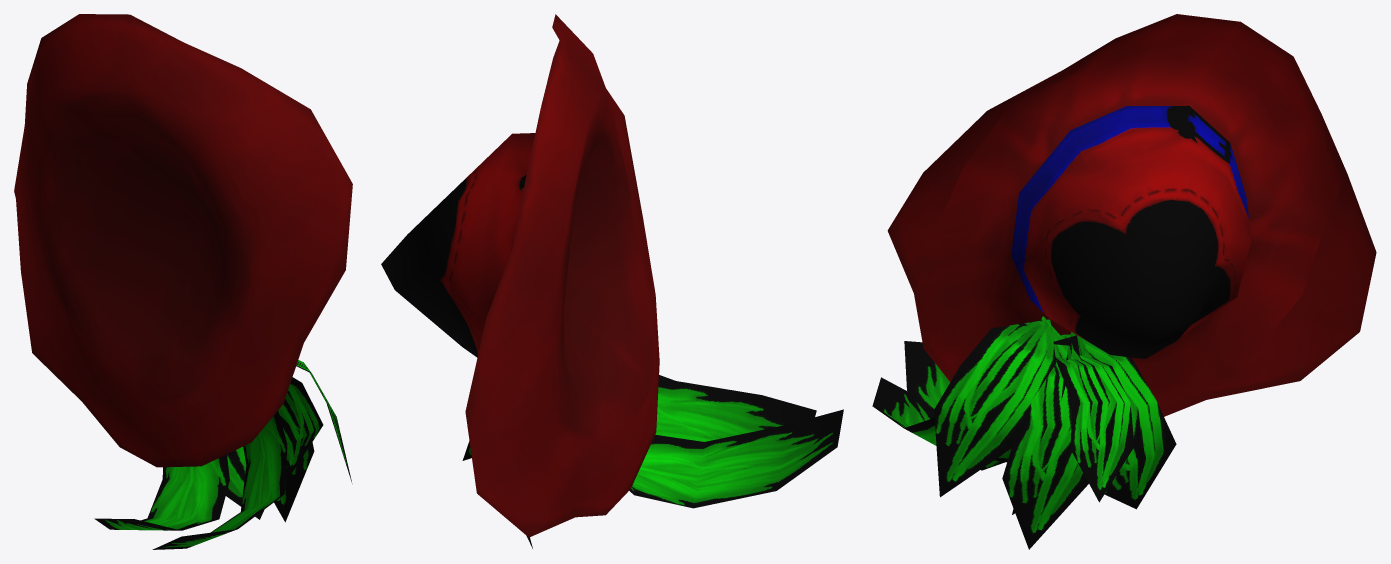
3 views of the same model, side by side, from view 1: azimuth 30°, elevation 25°; view 2: azimuth 150°, elevation 25°; view 3: azimuth 270°, elevation 25° (orthographic). The views are drawn at different scales.
Parts seen in each view (by area): view 1: G1106; view 2: G1106; view 3: G1106.
Boxes of the visible parts, left/top/right/bottom form: G1106: left=14, top=14, right=352, bottom=549; G1106: left=381, top=14, right=843, bottom=548; G1106: left=872, top=14, right=1376, bottom=549.
Size of the model in its own units: 0.7464 by 1.13 by 1.04.
